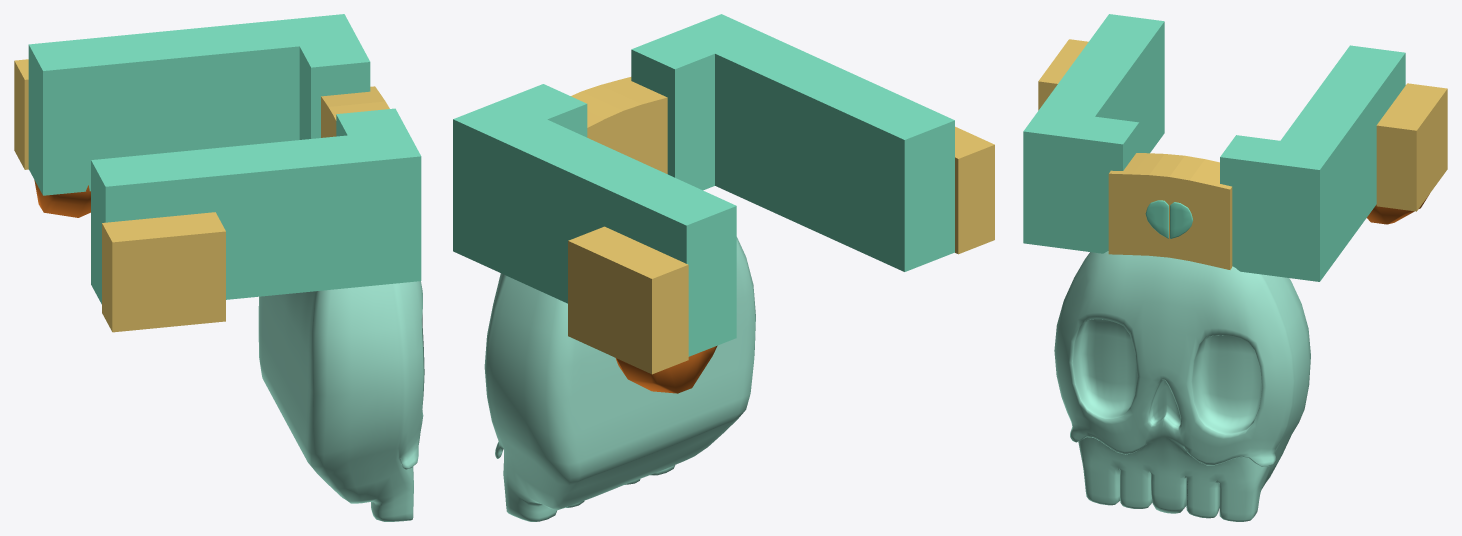
The model's file is smokepipe.glb.
3 views of the same model, side by side, from view 1: azimuth 30°, elevation 25°; view 2: azimuth 150°, elevation 25°; view 3: azimuth 270°, elevation 25° (orthographic). The views are drawn at different scales.
Visible parts, largest first — view 1: kaedim_mesh_1, kaedim_mesh_1.002, kaedim_mesh_0, kaedim_mesh_1.003, kaedim_mesh_2, kaedim_mesh_1.001, kaedim_mesh_3; view 2: kaedim_mesh_1.002, kaedim_mesh_1, kaedim_mesh_0, kaedim_mesh_1.001, kaedim_mesh_2, kaedim_mesh_1.003, kaedim_mesh_3; view 3: kaedim_mesh_0, kaedim_mesh_1, kaedim_mesh_1.002, kaedim_mesh_2, kaedim_mesh_1.001, kaedim_mesh_1.003, kaedim_mesh_4.001, kaedim_mesh_4, kaedim_mesh_3.
Boxes of the visible parts, x1,y1,x2,y2 form: kaedim_mesh_1: [28, 14, 370, 195]; kaedim_mesh_1.002: [91, 108, 421, 304]; kaedim_mesh_0: [258, 281, 424, 521]; kaedim_mesh_1.003: [102, 212, 225, 332]; kaedim_mesh_2: [321, 86, 389, 137]; kaedim_mesh_1.001: [14, 59, 28, 169]; kaedim_mesh_3: [34, 180, 90, 217]; kaedim_mesh_1.002: [631, 14, 954, 271]; kaedim_mesh_1: [453, 84, 736, 356]; kaedim_mesh_0: [484, 237, 755, 521]; kaedim_mesh_1.001: [568, 226, 688, 374]; kaedim_mesh_2: [571, 77, 667, 173]; kaedim_mesh_1.003: [955, 126, 994, 254]; kaedim_mesh_3: [615, 345, 717, 393]; kaedim_mesh_0: [1054, 251, 1310, 521]; kaedim_mesh_1: [1220, 45, 1405, 281]; kaedim_mesh_1.002: [1023, 14, 1164, 253]; kaedim_mesh_2: [1108, 153, 1232, 269]; kaedim_mesh_1.001: [1376, 83, 1447, 211]; kaedim_mesh_1.003: [1038, 39, 1088, 110]; kaedim_mesh_4.001: [1145, 200, 1168, 238]; kaedim_mesh_4: [1170, 202, 1192, 238]; kaedim_mesh_3: [1367, 194, 1429, 224].
Size of the model in its own units: 1.95 by 2 by 2.14.
